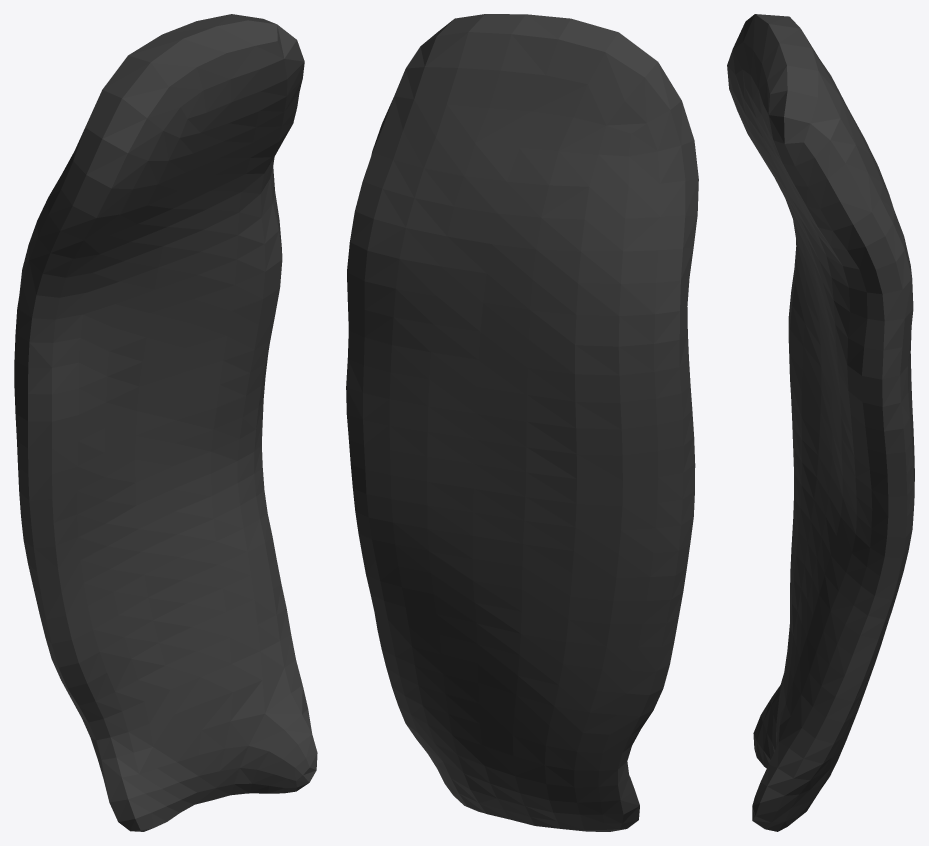
The model's file is Palmar_carpal_ligament.glb.
3 renders of one model, left to right at view 1: azimuth 30°, elevation 25°; view 2: azimuth 150°, elevation 25°; view 3: azimuth 270°, elevation 25°, orthographic. The views are drawn at different scales.
Parts seen in each view (by area): view 1: Palmar_carpal_ligament; view 2: Palmar_carpal_ligament; view 3: Palmar_carpal_ligament.
Boxes of the visible parts, box(x1,y1,x2,y2) form: Palmar_carpal_ligament: box(14, 14, 317, 831); Palmar_carpal_ligament: box(346, 14, 698, 831); Palmar_carpal_ligament: box(727, 14, 914, 831).
Size of the model in its own units: 11.91 by 30.15 by 6.76.
1 material, 1 textured.
